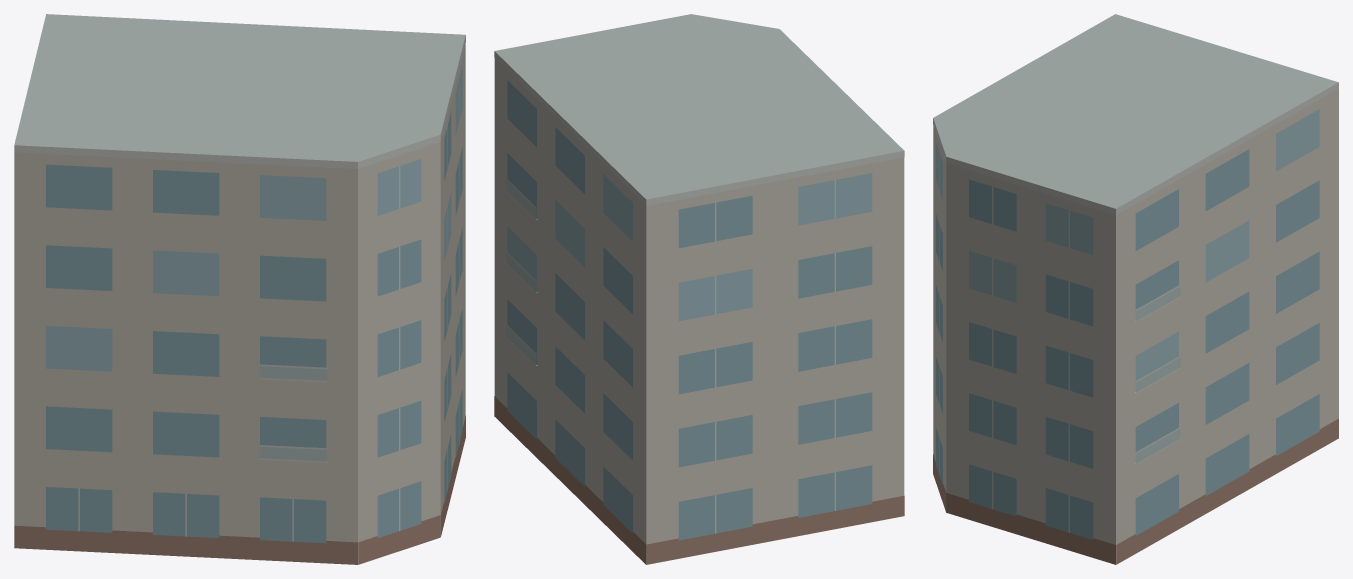
Rendered from survey-upis-33023212.glb.
The picture shows the model from 3 angles, left to right: view 1: azimuth 30°, elevation 25°; view 2: azimuth 150°, elevation 25°; view 3: azimuth 270°, elevation 25°; orthographic projection. The views are drawn at different scales.
Parts seen in each view (by area): view 1: survey-upis-33023212.tmp; view 2: survey-upis-33023212.tmp; view 3: survey-upis-33023212.tmp.
Part boxes in pixels (x1,y1,x2,y2): survey-upis-33023212.tmp: (14, 14, 465, 564); survey-upis-33023212.tmp: (494, 14, 904, 564); survey-upis-33023212.tmp: (933, 14, 1338, 564).
Bounding box in the file's own units: 16.09 × 13.7 × 14.16.
